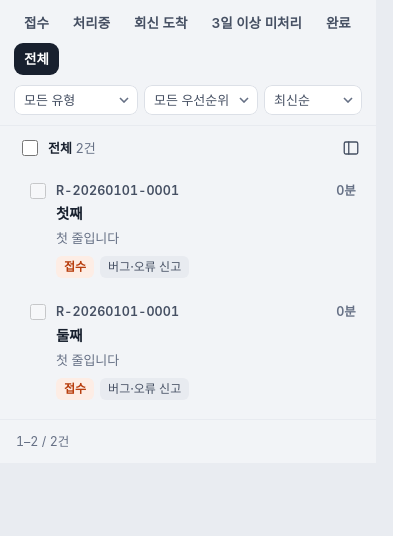
Scenario: InboxList › bulk status › shows an error and keeps the selection when the request fails
Click the checkbox named "첫째 선택" at (38, 191), box [30,183,46,199]
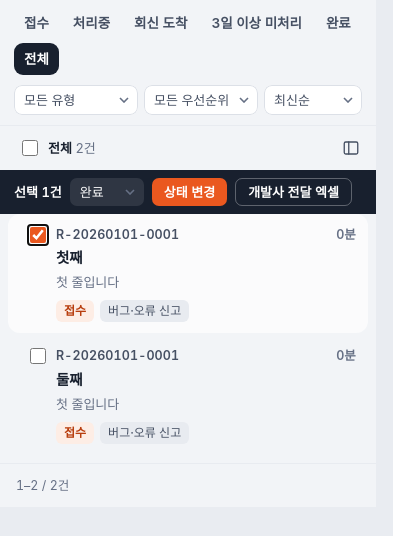
Click the button "상태 변경" at (189, 192), box [152,178,227,206]
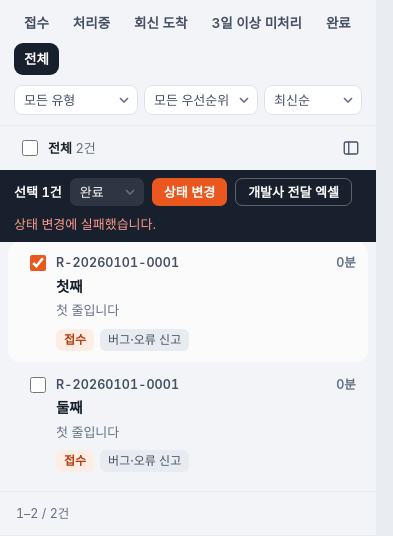
Now the text "선택 1건" is shown, box [14,182,62,202]
Now the text "상태 변경에 실패했습니다." is shown, box [14,214,156,234]
